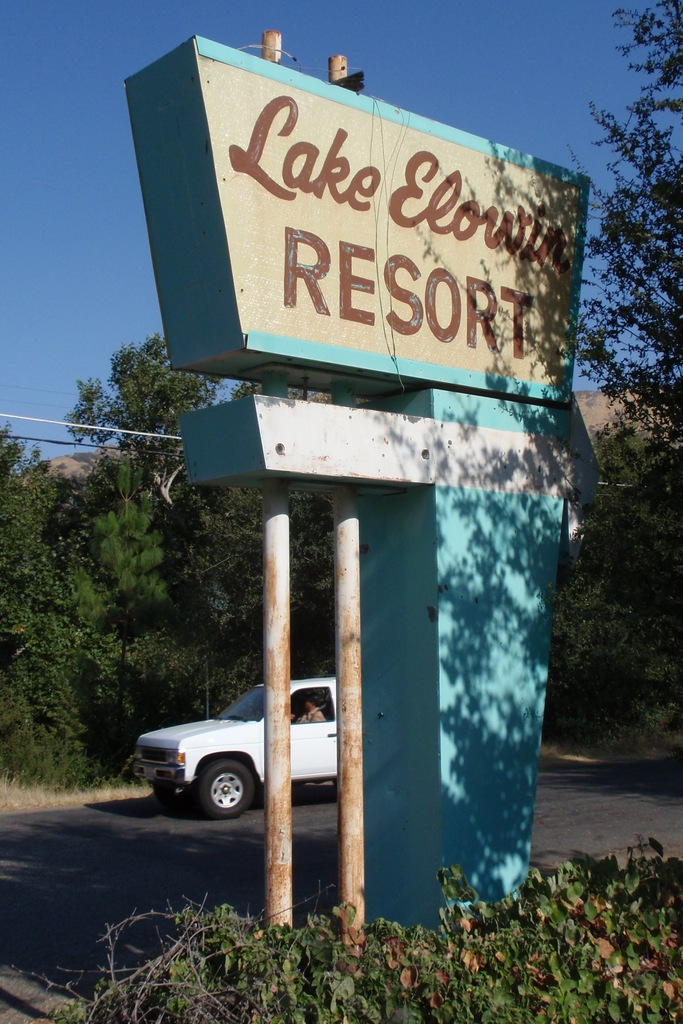mobil: (141, 676, 377, 808)
